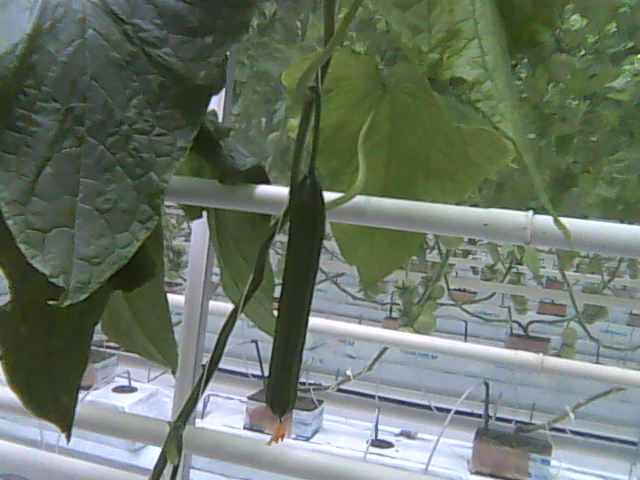concombre: (262, 162, 328, 448)
